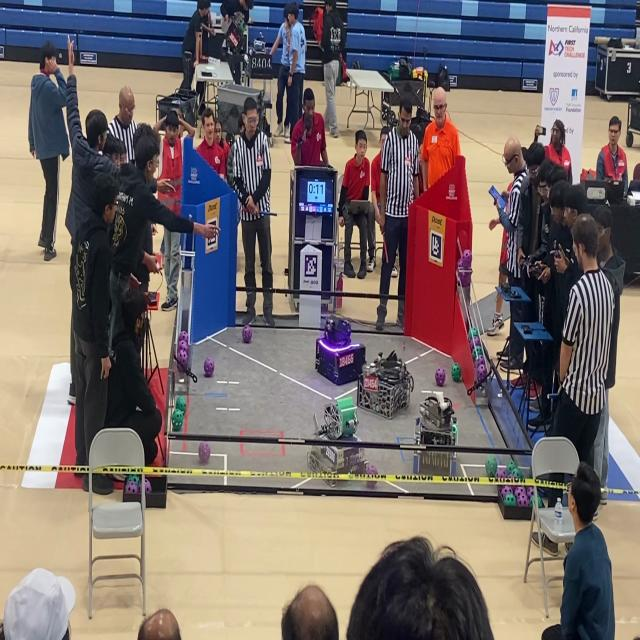artifact_green: (476, 357, 488, 384), (485, 455, 497, 478), (172, 409, 183, 431), (459, 269, 472, 287), (462, 249, 472, 269), (508, 473, 518, 493), (451, 363, 461, 382), (175, 396, 186, 413), (517, 493, 529, 507), (472, 347, 483, 362), (500, 486, 512, 499), (503, 494, 516, 506), (468, 327, 479, 341), (126, 475, 140, 485), (507, 460, 517, 474), (496, 467, 507, 479), (513, 486, 525, 497), (513, 467, 523, 479), (470, 337, 481, 347), (145, 479, 152, 494), (178, 341, 188, 351), (471, 347, 476, 363), (527, 486, 534, 497), (529, 496, 535, 507), (538, 496, 543, 508), (125, 475, 134, 481)
artifact_purple: (198, 441, 211, 464), (476, 359, 487, 383), (176, 349, 188, 368), (459, 270, 472, 287), (461, 249, 472, 269), (204, 358, 214, 377), (124, 481, 138, 494), (242, 325, 252, 343), (435, 368, 445, 386), (508, 474, 517, 493), (517, 493, 529, 507), (504, 495, 516, 506), (501, 486, 512, 498), (470, 336, 481, 348), (496, 467, 507, 478), (514, 486, 525, 497), (365, 465, 377, 475), (178, 340, 188, 351), (179, 331, 188, 343), (145, 479, 151, 494), (457, 258, 463, 270), (527, 487, 534, 497), (508, 473, 516, 480), (529, 496, 534, 507)
